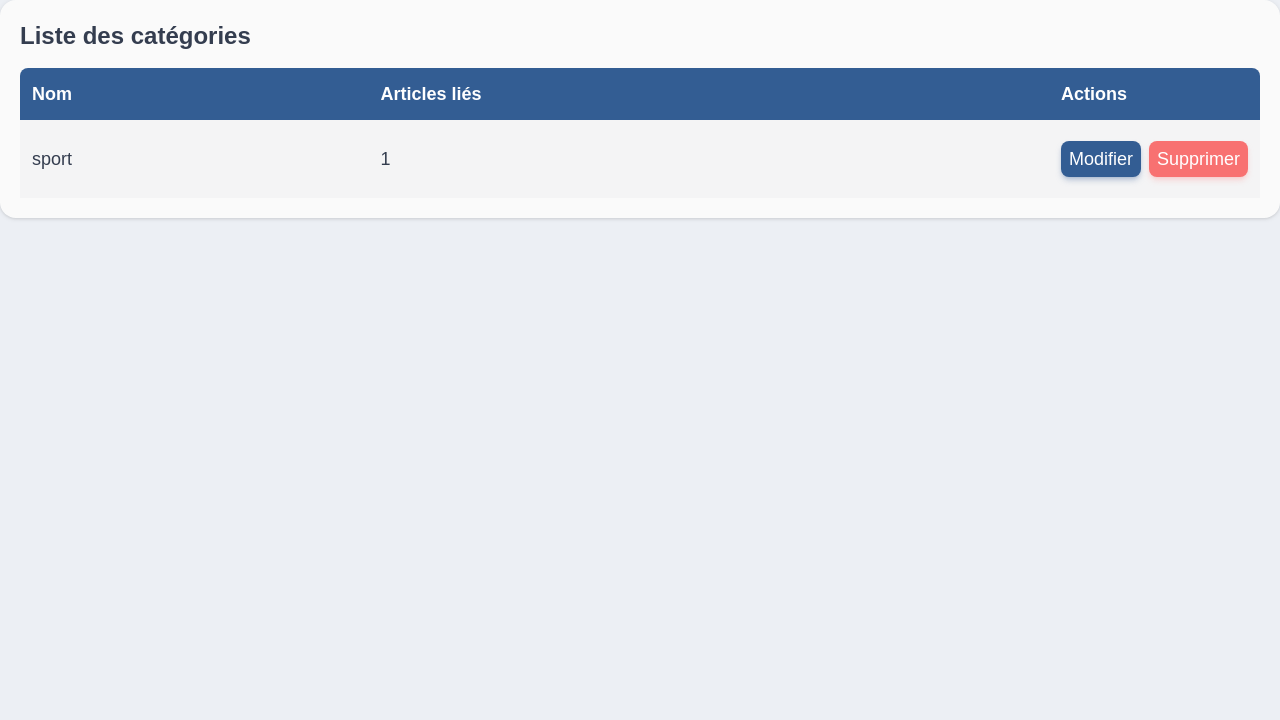
Scenario: CategoriesViewTest › should render the categories view and open details
Click the text "sport": point(52, 159) [20,120,368,198]
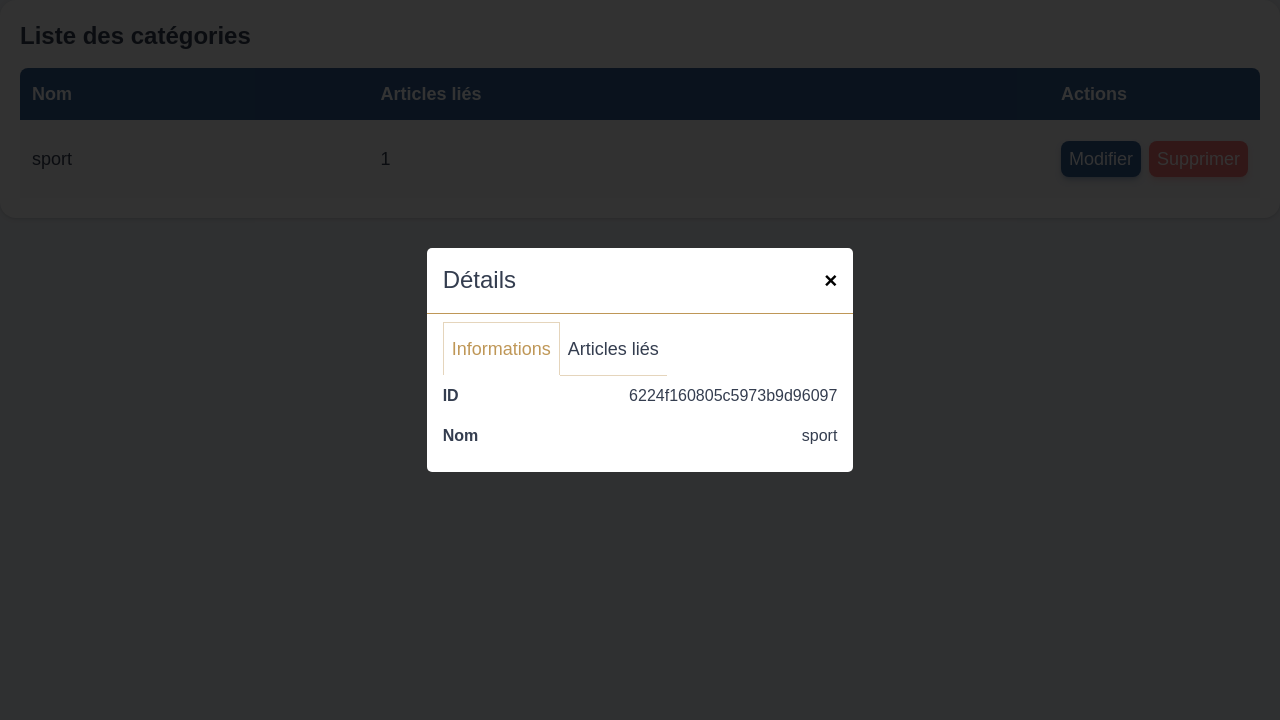
Result: the heading "Détails" is shown at [443,264,516,296]
